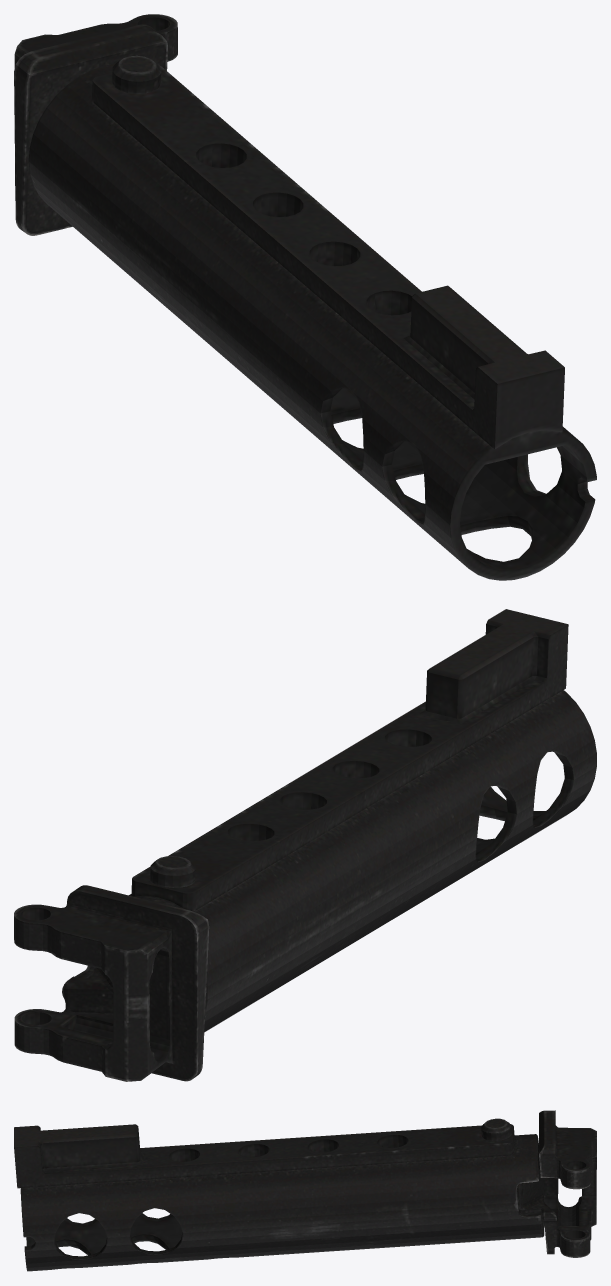
The picture shows the model from 3 angles, top to bottom: view 1: azimuth 30°, elevation 25°; view 2: azimuth 150°, elevation 25°; view 3: azimuth 270°, elevation 25°; orthographic projection. The views are drawn at different scales.
Parts seen in each view (by area): view 1: TW_649ec87d8007560a9001ab36_PZ_Import; view 2: TW_649ec87d8007560a9001ab36_PZ_Import; view 3: TW_649ec87d8007560a9001ab36_PZ_Import.
Boxes of the visible parts, <box> form: TW_649ec87d8007560a9001ab36_PZ_Import: <box>14,14,596,580</box>; TW_649ec87d8007560a9001ab36_PZ_Import: <box>14,609,596,1081</box>; TW_649ec87d8007560a9001ab36_PZ_Import: <box>14,1110,596,1271</box>.
Size of the model in its own units: 0.0209 by 0.0969 by 0.0263.
1 material, 1 textured.
